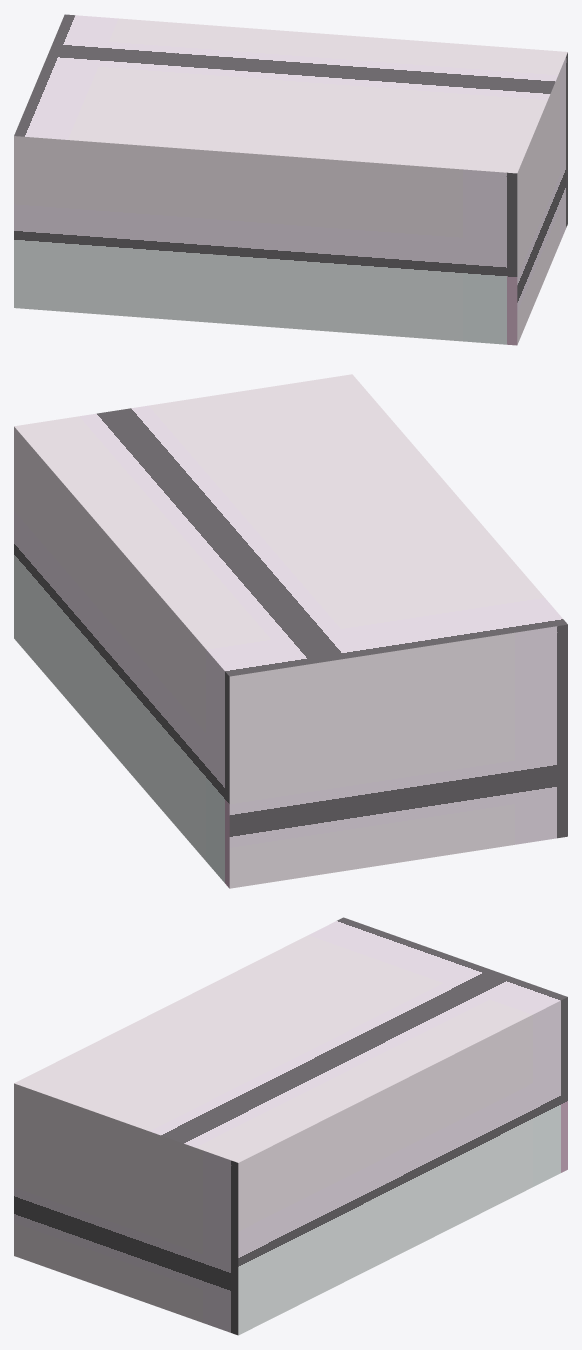
3 renders of one model, top to bottom at view 1: azimuth 30°, elevation 25°; view 2: azimuth 150°, elevation 25°; view 3: azimuth 270°, elevation 25°, orthographic. The views are drawn at different scales.
Visible parts, largest first — view 1: Joint_0_Object_0; view 2: Joint_0_Object_0; view 3: Joint_0_Object_0.
Part boxes in pixels (left/top/right/bottom): Joint_0_Object_0: left=14, top=14, right=567, bottom=345; Joint_0_Object_0: left=14, top=374, right=567, bottom=888; Joint_0_Object_0: left=14, top=917, right=567, bottom=1335.
Size of the model in its own units: 525 by 172 by 500.
